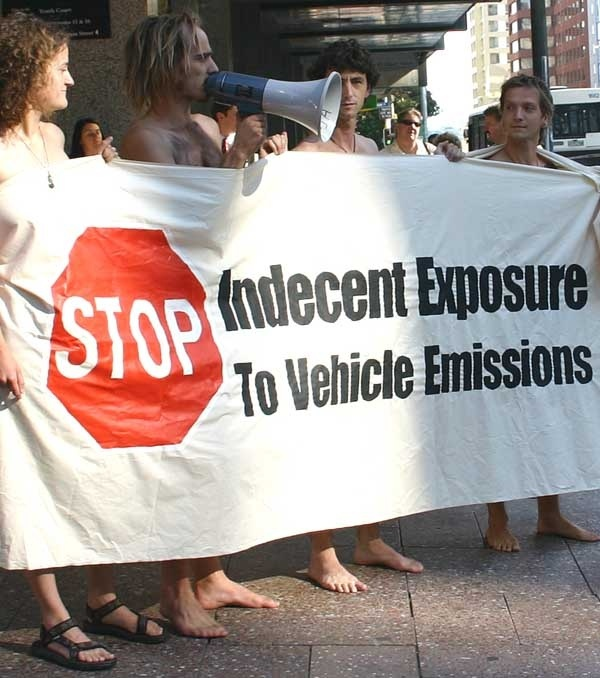text: (65, 295, 80, 381), (81, 295, 96, 381), (97, 295, 112, 381), (113, 295, 128, 381), (129, 295, 144, 381), (145, 295, 160, 381), (161, 295, 176, 381), (177, 295, 192, 381), (225, 257, 240, 333), (241, 257, 256, 333), (257, 257, 272, 333), (273, 257, 288, 333), (289, 257, 304, 333), (305, 257, 320, 333), (321, 257, 336, 333), (337, 257, 352, 333), (353, 257, 368, 333), (369, 257, 384, 333), (385, 257, 400, 333), (417, 252, 432, 321), (433, 252, 448, 321), (449, 252, 464, 321), (465, 252, 480, 321), (481, 252, 496, 321), (497, 252, 512, 321), (513, 252, 528, 321), (529, 252, 544, 321), (545, 252, 560, 321), (561, 252, 576, 321), (193, 295, 205, 381), (289, 348, 304, 413), (305, 348, 320, 413), (321, 348, 336, 413), (337, 348, 352, 413), (353, 348, 368, 413), (369, 348, 384, 413), (385, 348, 400, 413), (401, 348, 416, 413), (577, 252, 591, 321), (433, 334, 448, 396), (449, 334, 464, 396), (465, 334, 480, 396), (481, 334, 496, 396), (497, 334, 512, 396), (513, 334, 528, 396), (529, 334, 544, 396), (545, 334, 560, 396), (561, 334, 576, 396), (577, 334, 592, 396), (401, 257, 413, 333), (241, 361, 256, 419), (257, 361, 272, 419), (213, 257, 224, 333), (55, 295, 64, 381), (424, 334, 432, 396), (232, 361, 240, 419), (273, 361, 281, 419), (281, 348, 288, 413), (414, 252, 416, 321), (417, 348, 419, 413), (593, 334, 595, 396)
